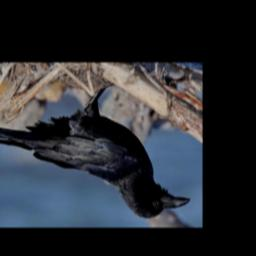Crow: (0, 81, 191, 219)
